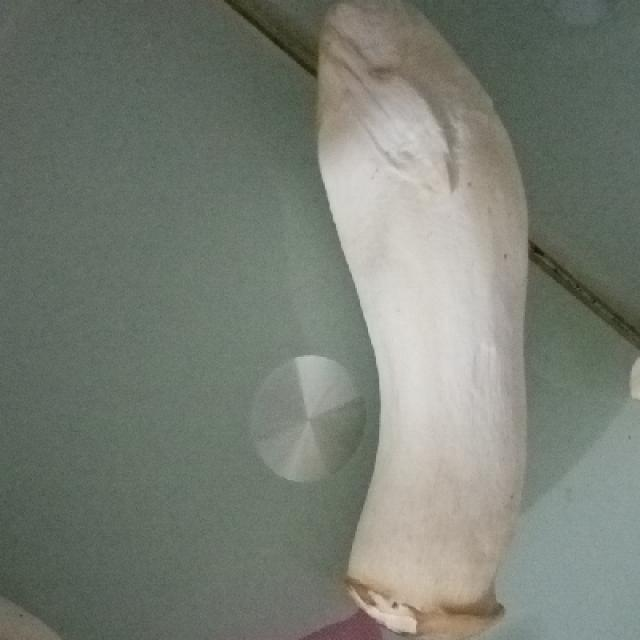Pleurotus eryngii: (314, 0, 529, 631)
